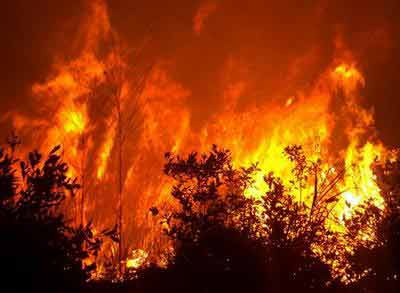fire: (9, 1, 390, 285)
